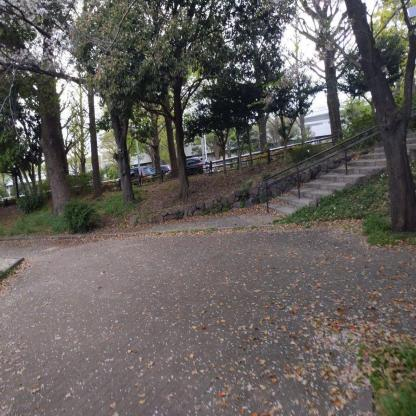Someiyoshino: (0, 1, 86, 90)
